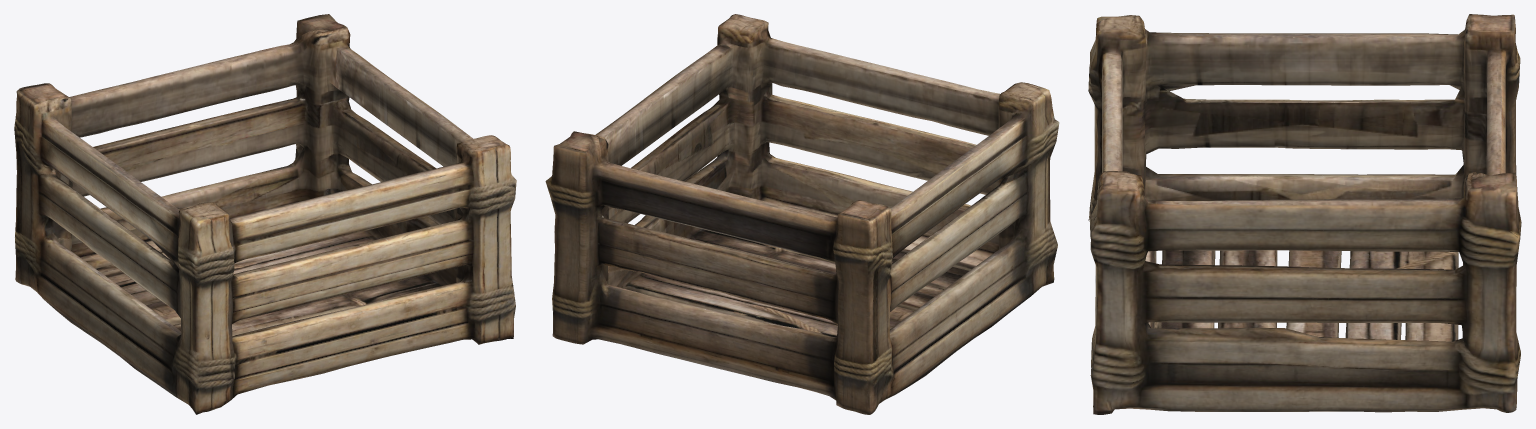
File: 80e17358-f45e-47d5-bbc8-81d12d744cbc.glb
3 renders of one model, left to right at view 1: azimuth 30°, elevation 25°; view 2: azimuth 150°, elevation 25°; view 3: azimuth 270°, elevation 25°, orthographic. The views are drawn at different scales.
Bounding box in the file's own units: 1.99 × 1.14 × 1.98.
1 material, 1 textured.
